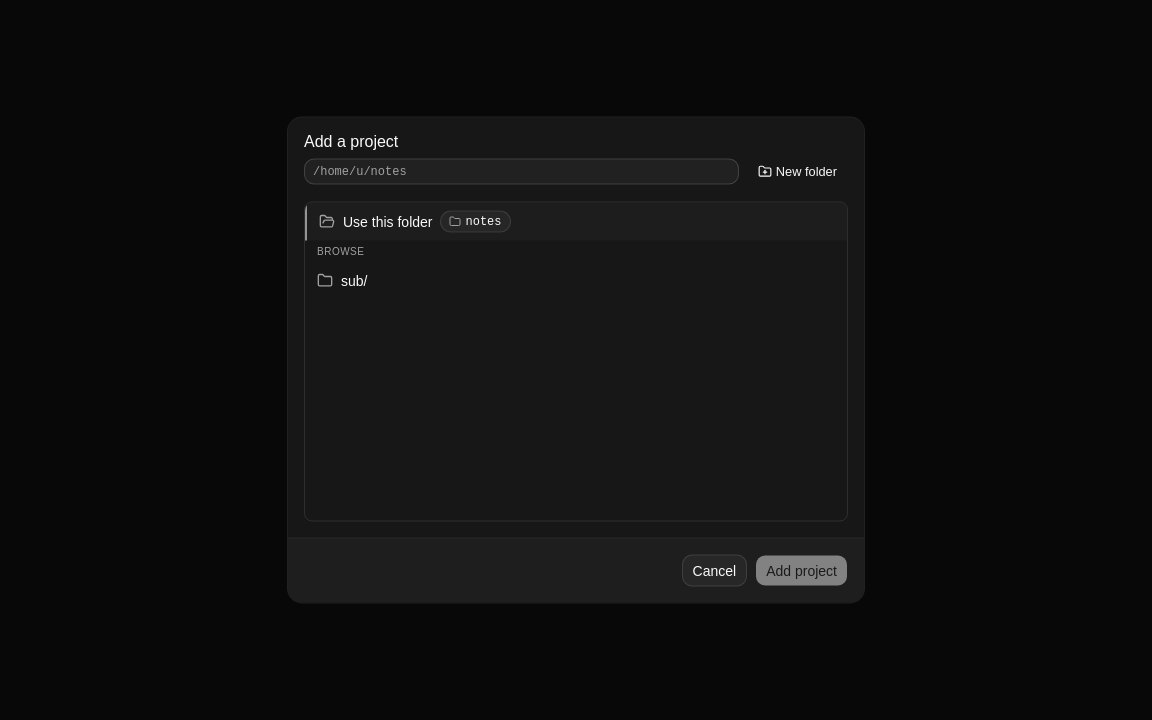
Scenario: AddProjectDialog picker › Escape in the New-folder editor cancels the editor without closing the dialog
Click the button "New folder": point(797, 172) top-left (747, 158), bottom-right (848, 186)
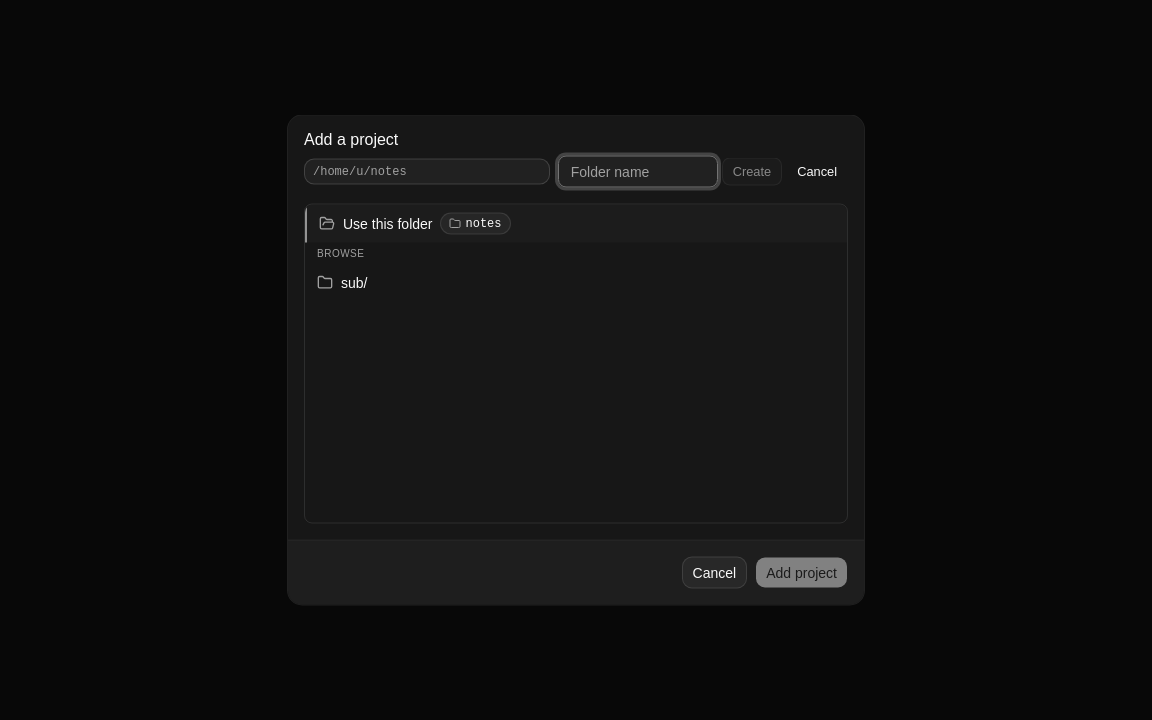
In the field with placeholder "Folder name": point(638, 172) top-left (558, 156), bottom-right (718, 188), type "drafts"
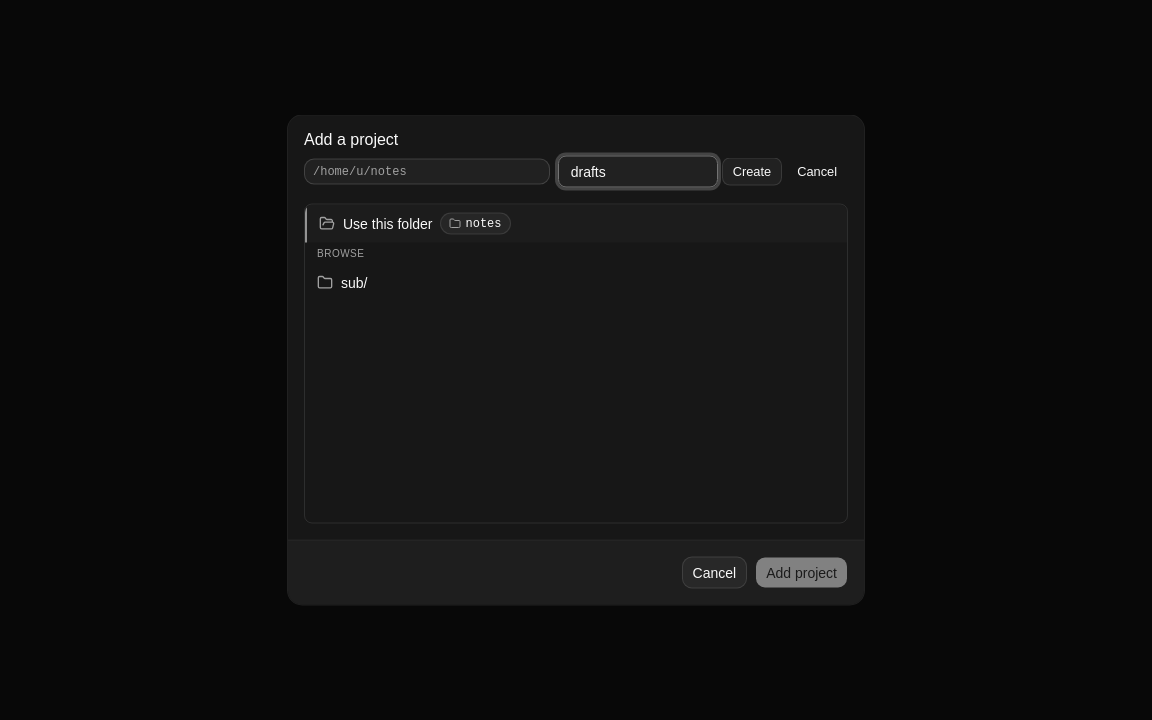
Press Escape in the field with placeholder "Folder name", box top-left (558, 156), bottom-right (718, 188)
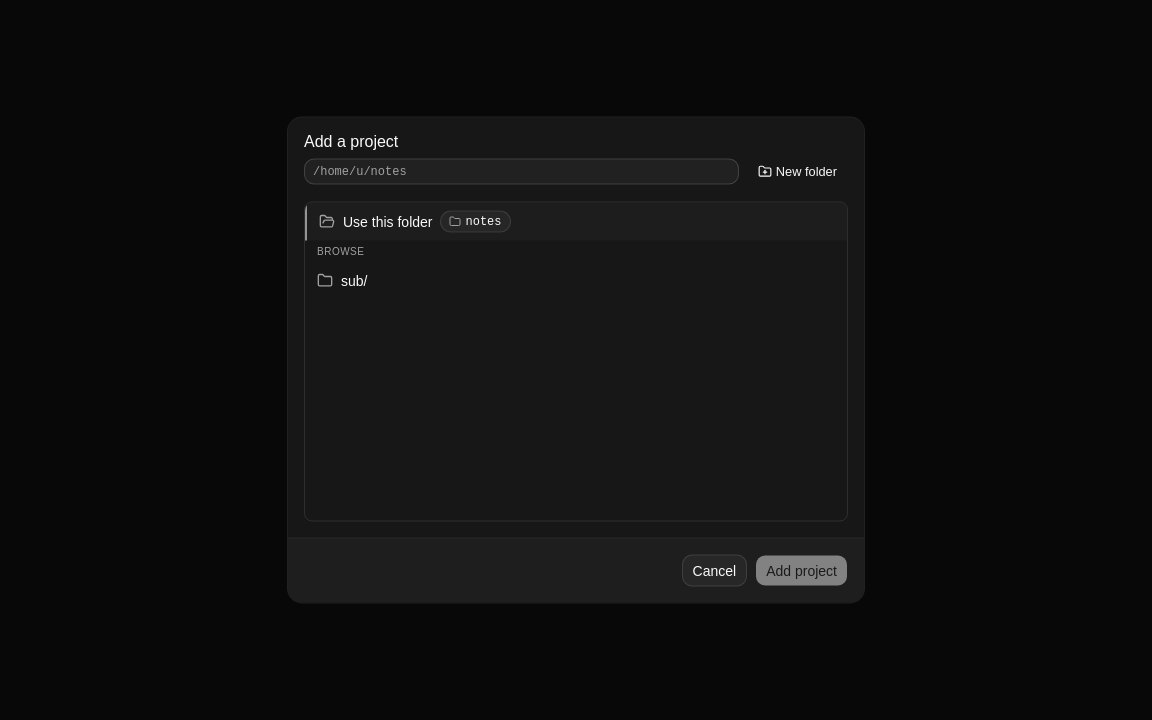
Expected: the field with placeholder "Folder name" is not shown
Expected: the button "New folder" is shown, top-left (747, 158), bottom-right (848, 186)
